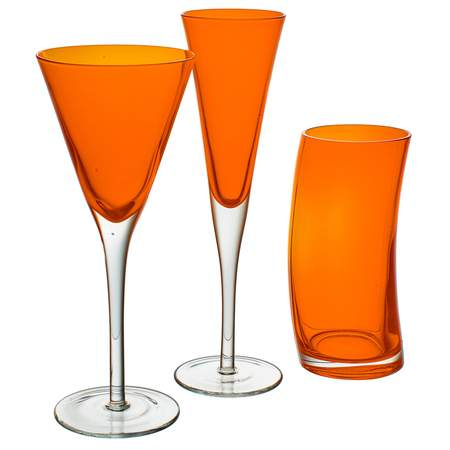Nonrec_Glass: (26, 18, 193, 435), (161, 1, 292, 406), (282, 90, 417, 390)
